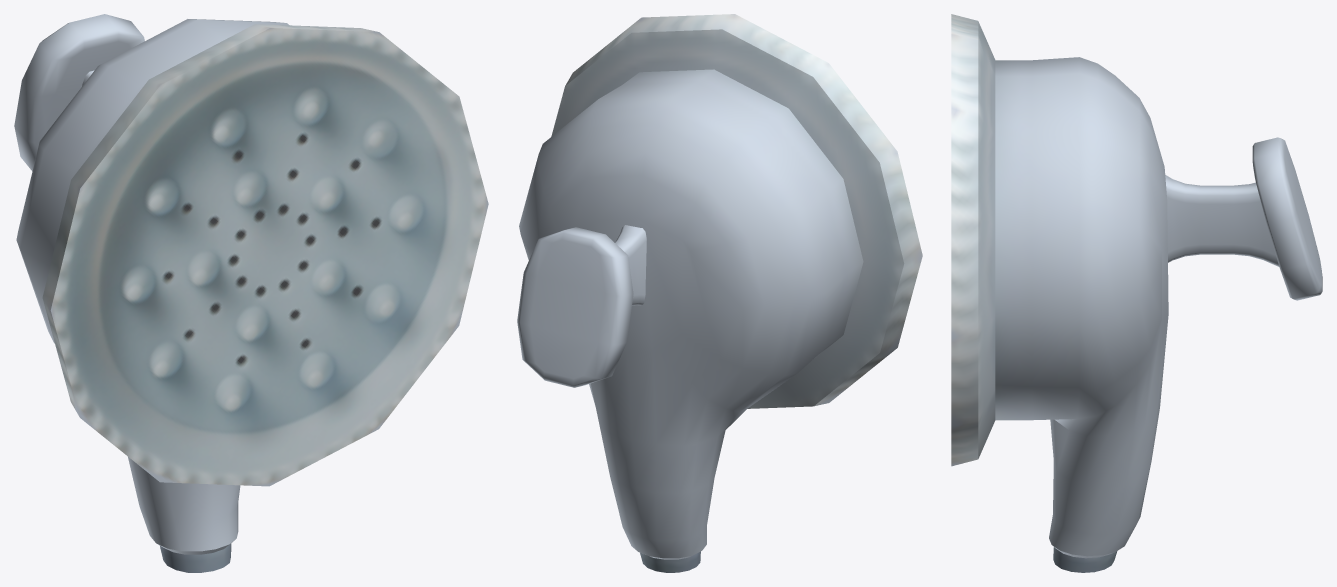
Rendered from dog_shawer_head.fbx.
3 renders of one model, left to right at view 1: azimuth 30°, elevation 25°; view 2: azimuth 150°, elevation 25°; view 3: azimuth 270°, elevation 25°, orthographic. The views are drawn at different scales.
Parts seen in each view (by area): view 1: dog_shawer_head_part_2, dog_shawer_head_part_3; view 2: dog_shawer_head_part_2, dog_shawer_head_part_3, dog_shawer_head_part_1; view 3: dog_shawer_head_part_2, dog_shawer_head_part_1, dog_shawer_head_part_3.
Boxes of the visible parts, bbox=[...] form: dog_shawer_head_part_2: bbox=[16, 19, 488, 572]; dog_shawer_head_part_3: bbox=[14, 14, 144, 171]; dog_shawer_head_part_2: bbox=[519, 14, 922, 572]; dog_shawer_head_part_3: bbox=[517, 227, 633, 387]; dog_shawer_head_part_1: bbox=[615, 225, 646, 305]; dog_shawer_head_part_2: bbox=[951, 14, 1168, 572]; dog_shawer_head_part_1: bbox=[1165, 175, 1279, 266]; dog_shawer_head_part_3: bbox=[1252, 137, 1322, 300].
Bounding box in the file's own units: 7.52 × 9.59 × 6.14.
1 material, 1 textured.
